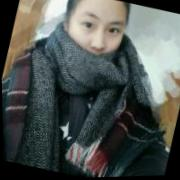WRONG: (58, 2, 131, 79)
